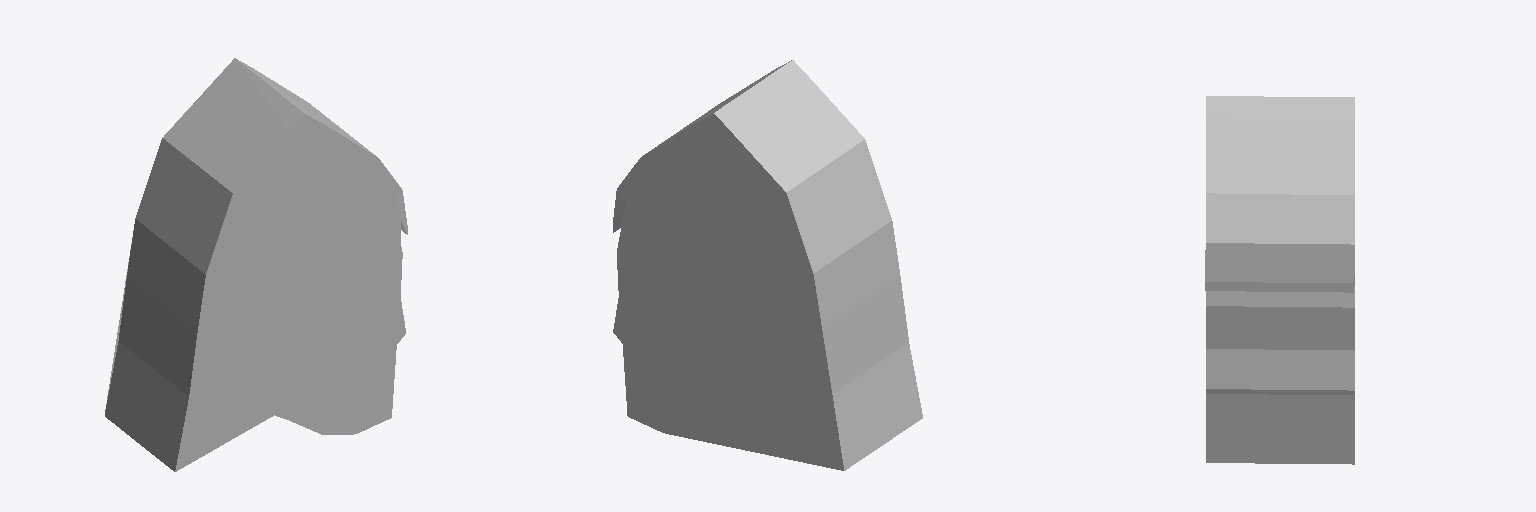
The model's file is helmetHead.obj.
3 views of the same model, side by side, from view 1: azimuth 30°, elevation 25°; view 2: azimuth 150°, elevation 25°; view 3: azimuth 270°, elevation 25° (orthographic).
Parts seen in each view (by area): view 1: Cube.001_Cube.000; view 2: Cube.001_Cube.000; view 3: Cube.001_Cube.000.
Part boxes in pixels (bbox=[...]): Cube.001_Cube.000: bbox=[105, 58, 407, 471]; Cube.001_Cube.000: bbox=[613, 60, 922, 470]; Cube.001_Cube.000: bbox=[1205, 96, 1354, 464].
Bounding box in the file's own units: 0.4935 × 0.6648 × 0.272.